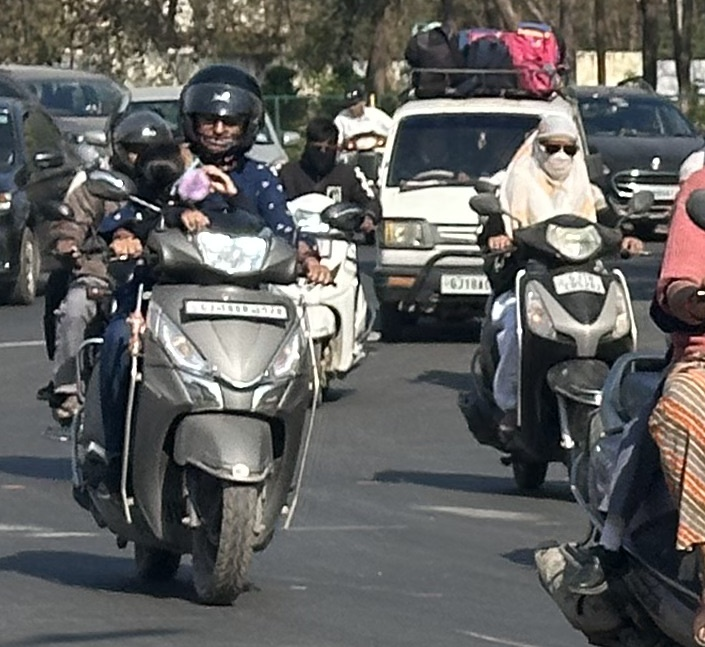BikeWithRider: (70, 66, 336, 605), (454, 93, 658, 509), (42, 55, 183, 512), (272, 107, 383, 414), (314, 80, 416, 241)
Helmet: (172, 67, 269, 164), (101, 100, 174, 185)
NoHelmet: (526, 109, 582, 175), (297, 115, 343, 167), (341, 93, 372, 122)
